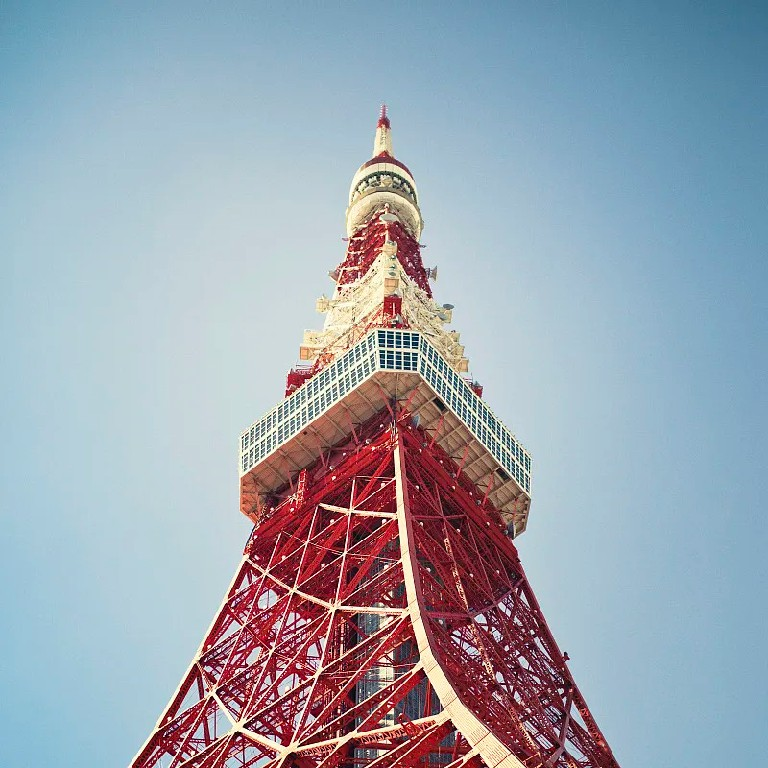Tokyo: (124, 94, 615, 764)
